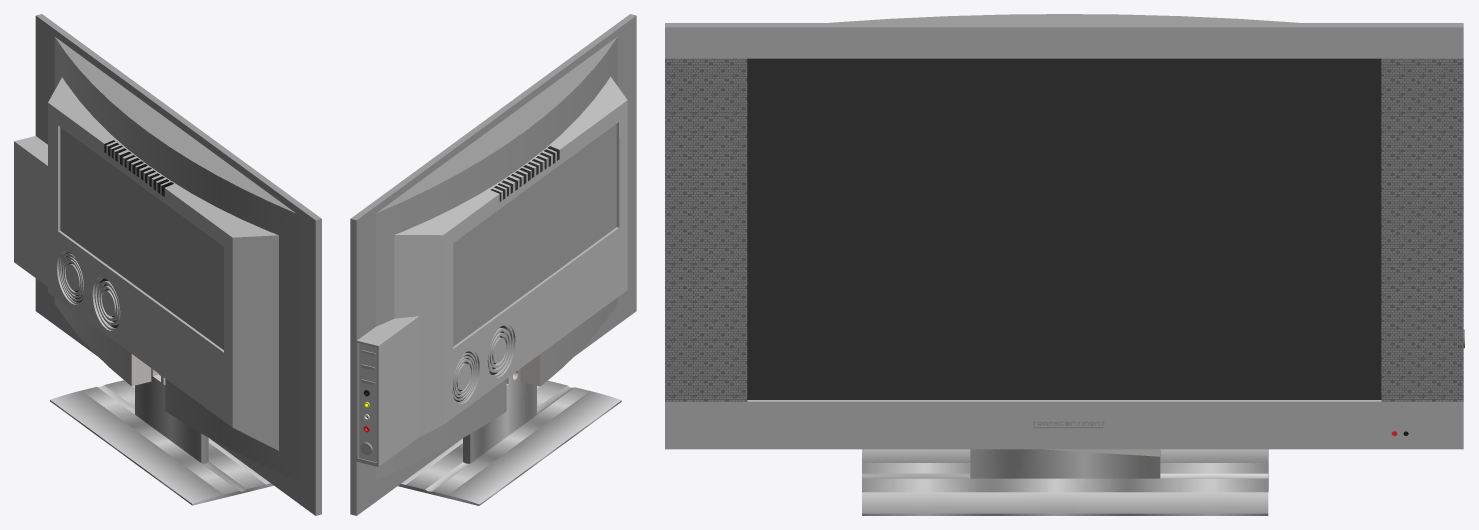
The picture shows the model from 3 angles, left to right: view 1: azimuth 30°, elevation 25°; view 2: azimuth 150°, elevation 25°; view 3: azimuth 270°, elevation 25°; orthographic projection. The views are drawn at different scales.
Parts seen in each view (by area): view 1: mesh19-geometry-1, mesh19-geometry-2, mesh19-geometry-3, mesh19-geometry-7, mesh19-geometry-0; view 2: mesh19-geometry-1, mesh19-geometry-2, mesh19-geometry-3, mesh19-geometry-7, mesh19-geometry-0; view 3: mesh19-geometry-7, mesh19-geometry-2, mesh19-geometry-4, mesh19-geometry-3, mesh19-geometry-1.
Part boxes in pixels (x1,y1,x2,y2): mesh19-geometry-1: [35, 14, 321, 515]; mesh19-geometry-2: [14, 77, 278, 450]; mesh19-geometry-3: [50, 368, 273, 505]; mesh19-geometry-7: [66, 140, 173, 327]; mesh19-geometry-0: [131, 354, 165, 385]; mesh19-geometry-1: [350, 14, 636, 515]; mesh19-geometry-2: [357, 76, 627, 466]; mesh19-geometry-3: [398, 368, 621, 505]; mesh19-geometry-7: [366, 146, 559, 429]; mesh19-geometry-0: [357, 343, 540, 457]; mesh19-geometry-7: [747, 58, 1381, 399]; mesh19-geometry-2: [665, 27, 1463, 449]; mesh19-geometry-4: [665, 58, 1463, 401]; mesh19-geometry-3: [862, 449, 1268, 515]; mesh19-geometry-1: [665, 14, 1464, 478].
Bounding box in the file's own units: 0.1733 × 0.528 × 0.8314.
